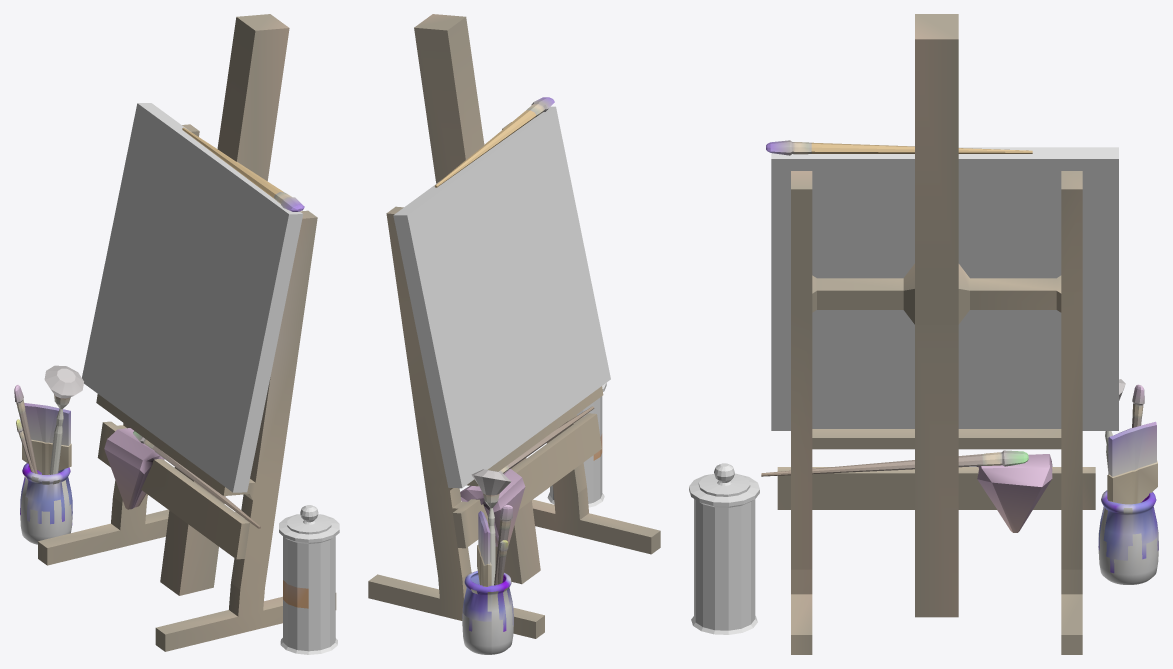
Rendered from Art Easel Set Up.glb.
The picture shows the model from 3 angles, left to right: view 1: azimuth 30°, elevation 25°; view 2: azimuth 150°, elevation 25°; view 3: azimuth 270°, elevation 25°; orthographic projection. The views are drawn at different scales.
Visible parts, largest first — view 1: Art Easel Set Up; view 2: Art Easel Set Up; view 3: Art Easel Set Up.
Boxes of the visible parts, x1,y1,x2,y2 form: Art Easel Set Up: (14, 14, 339, 654); Art Easel Set Up: (368, 14, 660, 654); Art Easel Set Up: (689, 14, 1158, 654).
Bounding box in the file's own units: 4.27 × 12.52 × 8.5.
